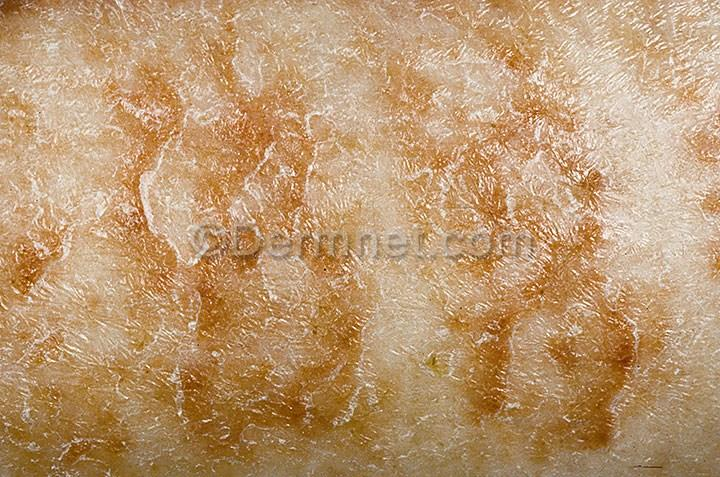Eczema: (415, 46, 646, 450), (167, 106, 384, 436), (41, 160, 162, 459)
